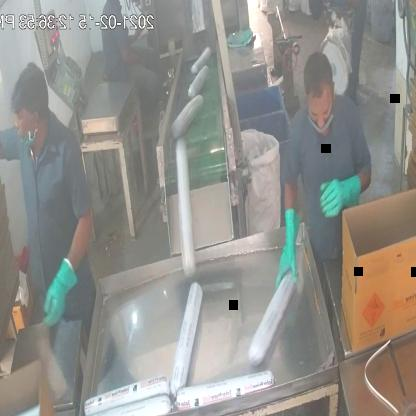glove: (37, 248, 79, 337), (268, 202, 303, 298), (316, 164, 366, 227)
